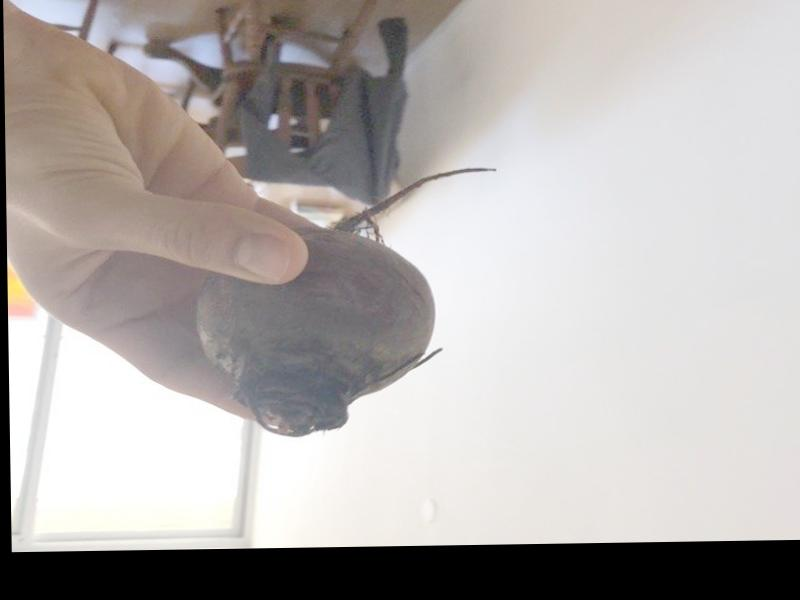Beet: (195, 167, 500, 438)
